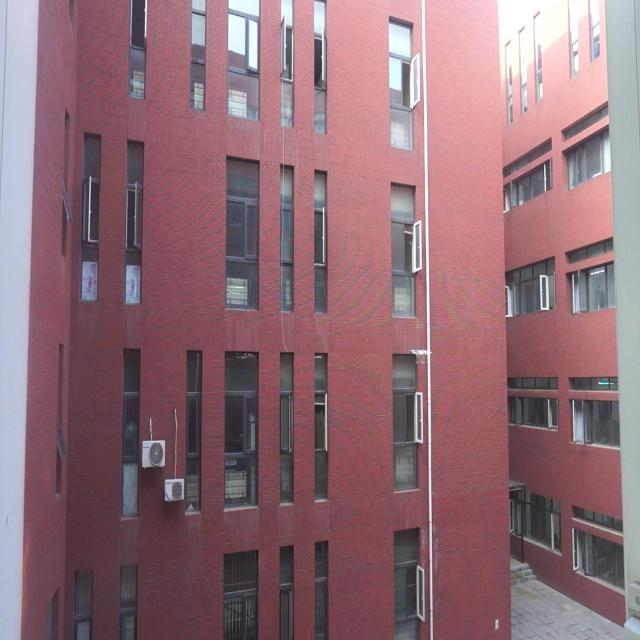drone: (410, 344, 432, 366)
